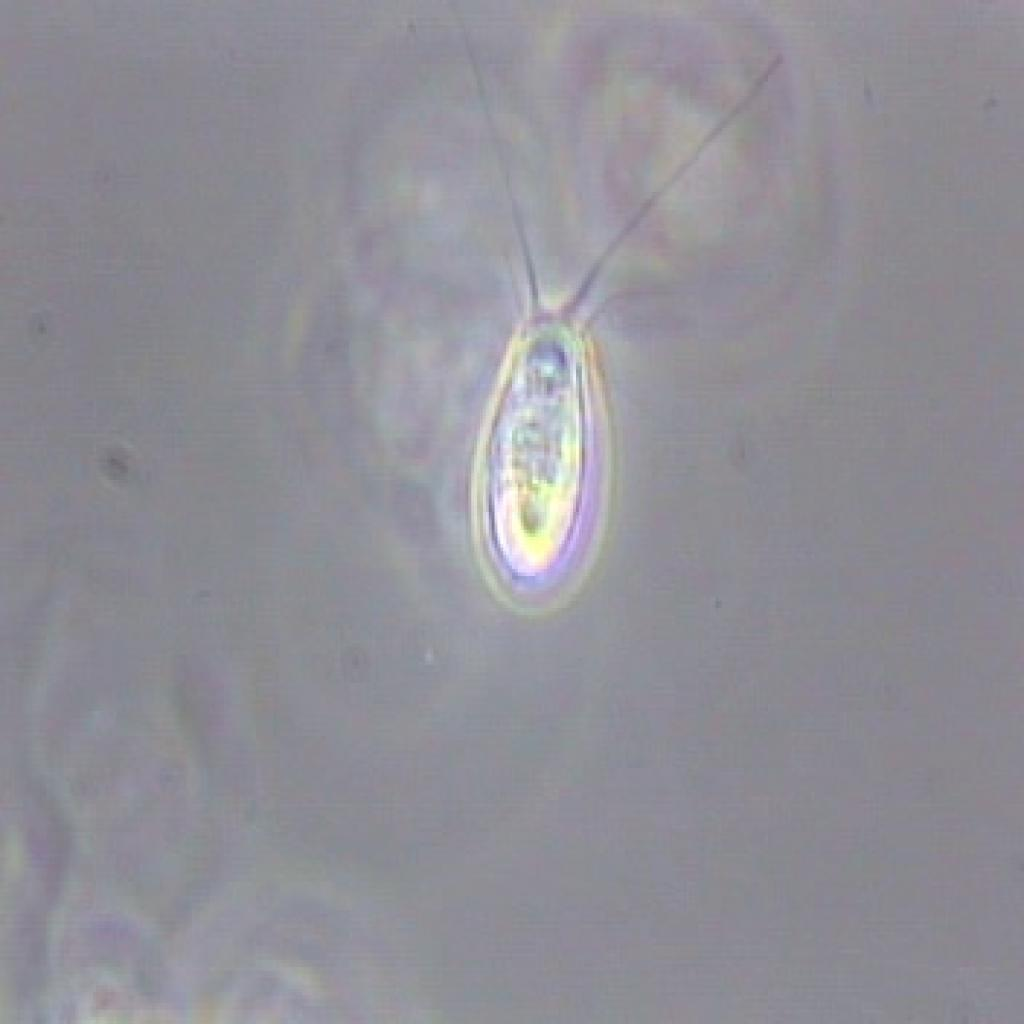Euglypha: (432, 87, 703, 649)
